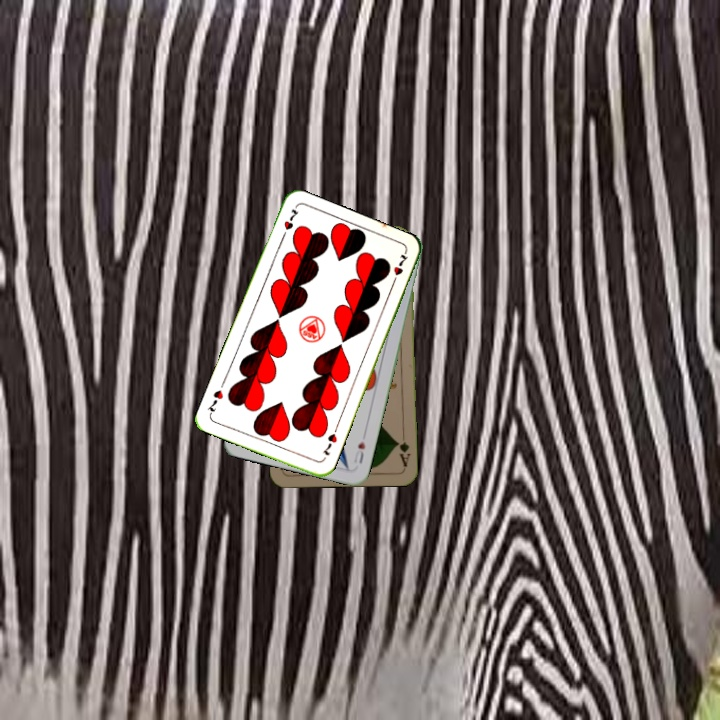GA: (393, 429, 413, 469)
H7: (277, 203, 301, 242), (318, 429, 340, 458)
HU: (350, 437, 368, 466)
